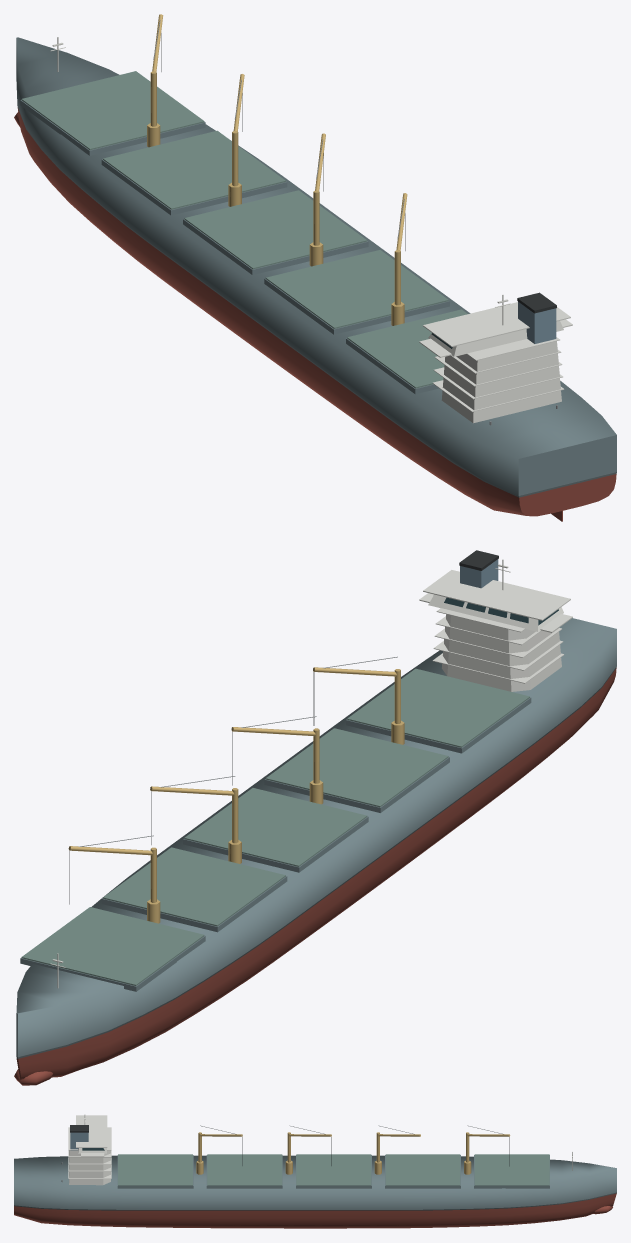
Rendered from bulk-low.glb.
3 views of the same model, one above another, from view 1: azimuth 30°, elevation 25°; view 2: azimuth 150°, elevation 25°; view 3: azimuth 270°, elevation 25° (orthographic). The views are drawn at different scales.
Visible parts, largest first — view 1: hull, green, bottom, white, ochre, stripe, blue; view 2: hull, green, bottom, white, ochre, stripe, black, blue; view 3: hull, green, bottom, white, ochre, stripe, blue, black.
Boxes of the visible parts, x1,y1,x2,y2 form: hull: [16, 37, 616, 495]; green: [21, 71, 467, 388]; bottom: [14, 108, 616, 521]; white: [50, 37, 572, 423]; ochre: [147, 14, 407, 325]; stripe: [17, 107, 616, 497]; blue: [518, 302, 556, 343]; hull: [16, 618, 616, 1057]; green: [21, 668, 529, 985]; bottom: [14, 668, 616, 1085]; white: [50, 559, 572, 988]; ochre: [68, 667, 404, 923]; stripe: [16, 666, 616, 1058]; black: [69, 550, 498, 904]; blue: [460, 559, 498, 588]; hull: [14, 1155, 616, 1209]; green: [118, 1154, 549, 1185]; bottom: [14, 1193, 616, 1228]; white: [68, 1114, 572, 1185]; ochre: [196, 1132, 510, 1174]; stripe: [14, 1192, 616, 1210]; blue: [70, 1132, 88, 1150]; black: [70, 1125, 509, 1166].
Bounding box in the file's own units: 32 × 43.2 × 230.
